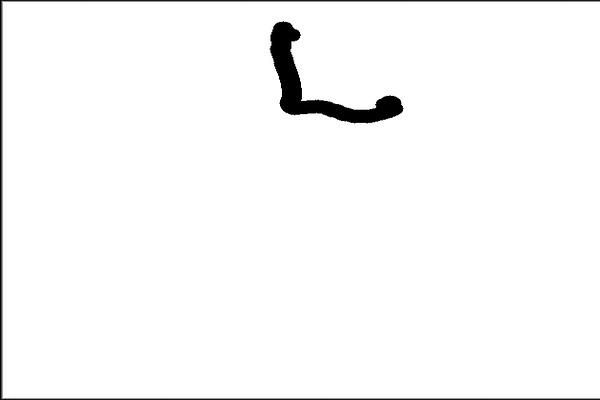L: (262, 11, 408, 129)
